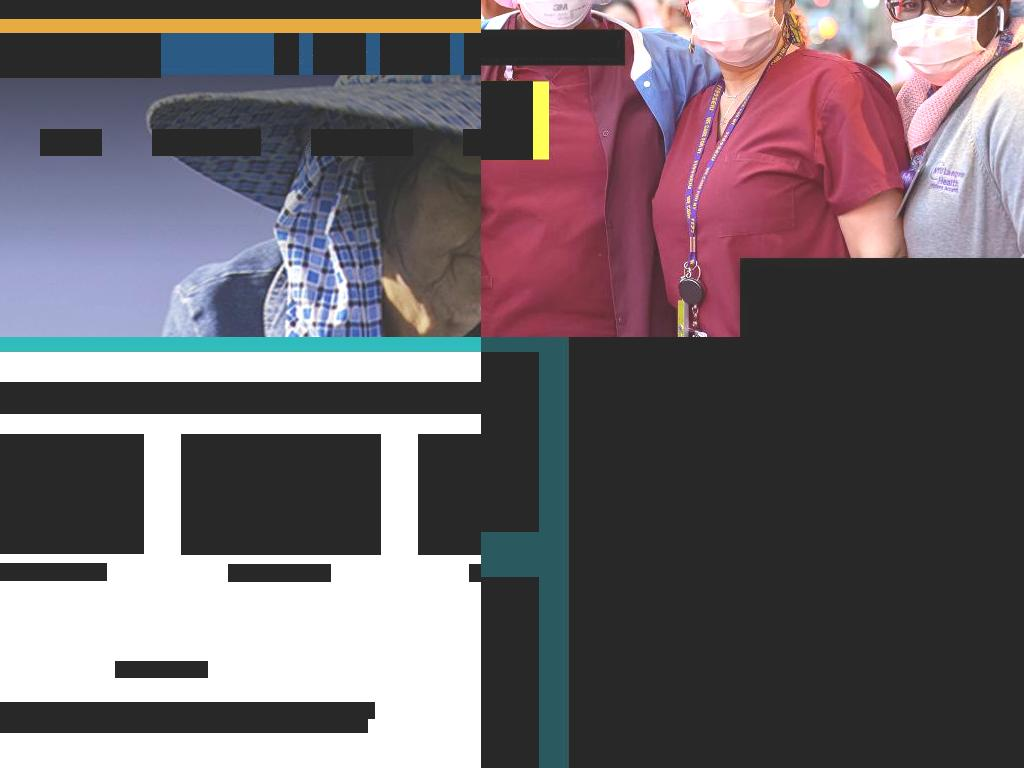button: (35, 33, 106, 78), (152, 129, 261, 156), (380, 33, 450, 75), (311, 129, 413, 156), (106, 33, 161, 78), (313, 33, 366, 75), (40, 129, 102, 156), (0, 33, 35, 78), (274, 33, 299, 75), (464, 33, 481, 75), (463, 129, 481, 156)
heading: (481, 37, 617, 58)
iframe: (569, 337, 1024, 768)
image: (181, 434, 381, 555), (0, 434, 144, 554), (418, 434, 481, 555)
link: (221, 0, 438, 19), (120, 702, 275, 719), (0, 563, 107, 581), (228, 564, 331, 582), (115, 661, 208, 678), (290, 702, 375, 719), (47, 702, 104, 719), (0, 702, 32, 719)
text: (0, 382, 481, 414), (770, 283, 1024, 337), (0, 716, 368, 733), (152, 129, 251, 156), (311, 129, 403, 156), (40, 129, 92, 156), (463, 129, 481, 156), (31, 702, 49, 719), (274, 702, 292, 719), (103, 702, 120, 719)
